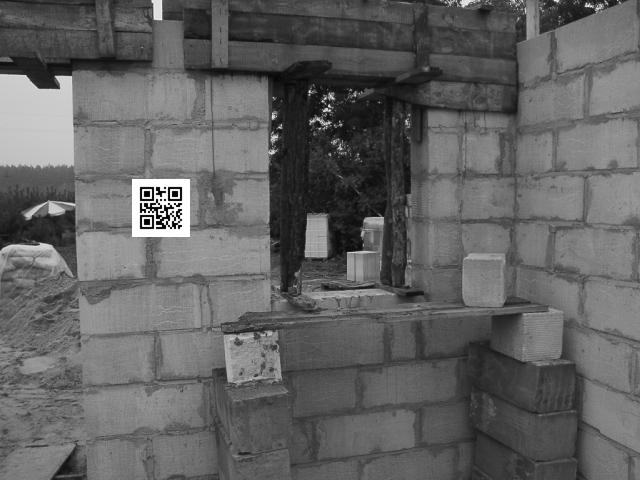qr_code: (131, 179, 191, 238)
